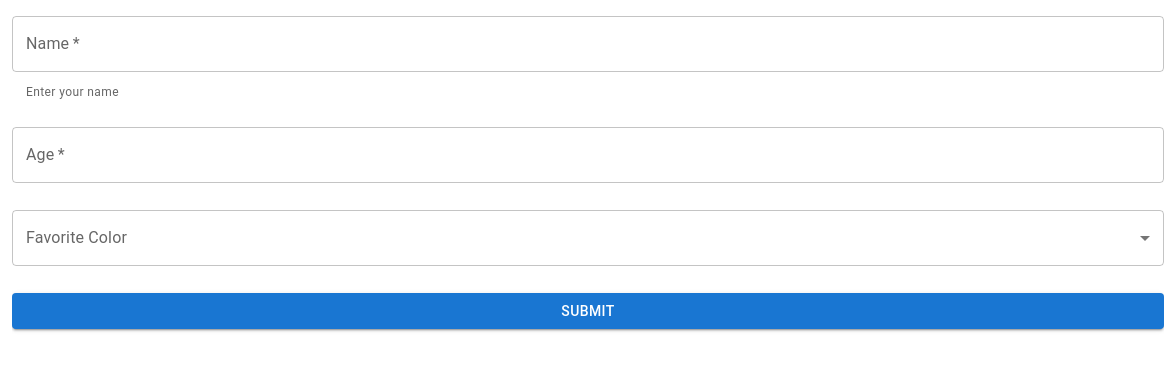
DynamicForm › shows validation errors when fields are empty
The image size is (1176, 389).
Click the button "Submit". click: [588, 311]
box: [12,293,1164,329]
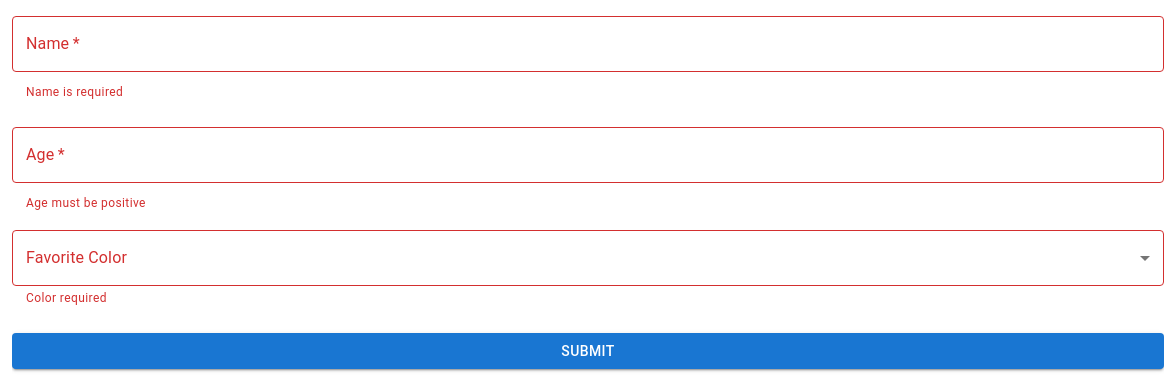
Expected: the text "Name is required" is shown, [26,85,123,99]
Expected: the text "Age must be positive" is shown, [26,196,146,210]
Expected: the text "Color required" is shown, [26,291,107,305]
